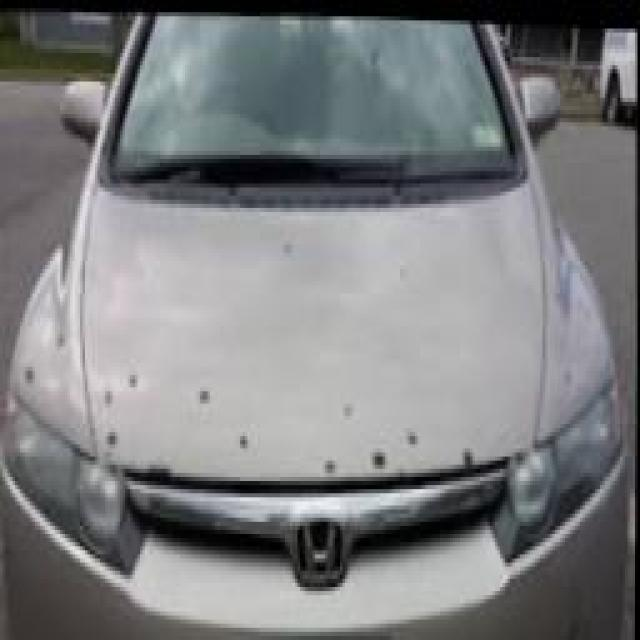Bonnet: (82, 167, 540, 489)
